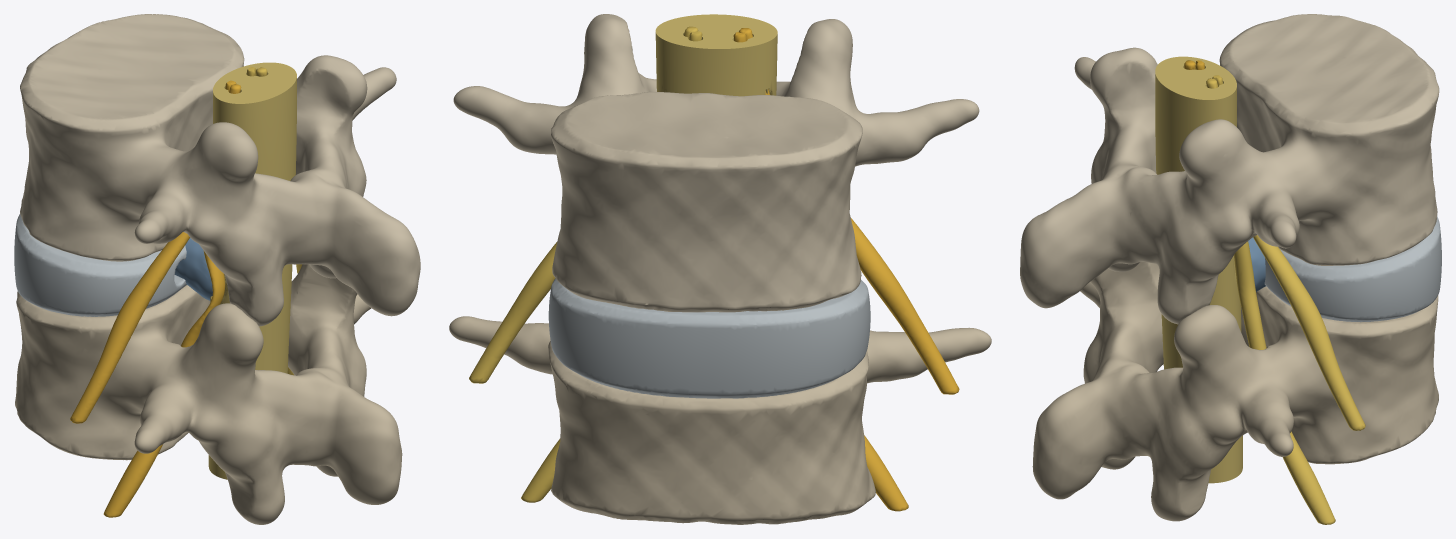
File: spine_central_herniation.glb
3 views of the same model, side by side, from view 1: azimuth 30°, elevation 25°; view 2: azimuth 150°, elevation 25°; view 3: azimuth 270°, elevation 25° (orthographic). The views are drawn at different scales.
Parts seen in each view (by area): view 1: l4_vertebra, l5_vertebra, thecal_sac, annulus_fibrosus, l4_nerve_root_left, l5_nerve_root_left, disc_herniation; view 2: l4_vertebra, l5_vertebra, annulus_fibrosus, thecal_sac, nerve_roots, l4_nerve_root_left, l5_nerve_root_left; view 3: l4_vertebra, l5_vertebra, thecal_sac, annulus_fibrosus, nerve_roots, disc_herniation.
Boxes of the visible parts, x1=… form: l4_vertebra: x1=20, y1=14, x2=420, y2=326; l5_vertebra: x1=15, y1=264, x2=402, y2=524; thecal_sac: x1=208, y1=62, x2=296, y2=479; annulus_fibrosus: x1=14, y1=214, x2=186, y2=316; l4_nerve_root_left: x1=70, y1=84, x2=241, y2=423; l5_nerve_root_left: x1=103, y1=80, x2=236, y2=517; disc_herniation: x1=174, y1=238, x2=212, y2=300; l4_vertebra: x1=453, y1=14, x2=979, y2=312; l5_vertebra: x1=449, y1=316, x2=991, y2=524; annulus_fibrosus: x1=548, y1=278, x2=870, y2=398; thecal_sac: x1=655, y1=14, x2=777, y2=96; nerve_roots: x1=469, y1=26, x2=702, y2=502; l4_nerve_root_left: x1=739, y1=28, x2=959, y2=394; l5_nerve_root_left: x1=733, y1=32, x2=908, y2=511; l4_vertebra: x1=1020, y1=14, x2=1439, y2=324; l5_vertebra: x1=1032, y1=262, x2=1438, y2=521; thecal_sac: x1=1155, y1=56, x2=1242, y2=483; annulus_fibrosus: x1=1264, y1=216, x2=1441, y2=322; nerve_roots: x1=1206, y1=75, x2=1365, y2=524; disc_herniation: x1=1248, y1=237, x2=1265, y2=291.
Bounding box in the file's own units: 7.95 × 7.92 × 7.36.
